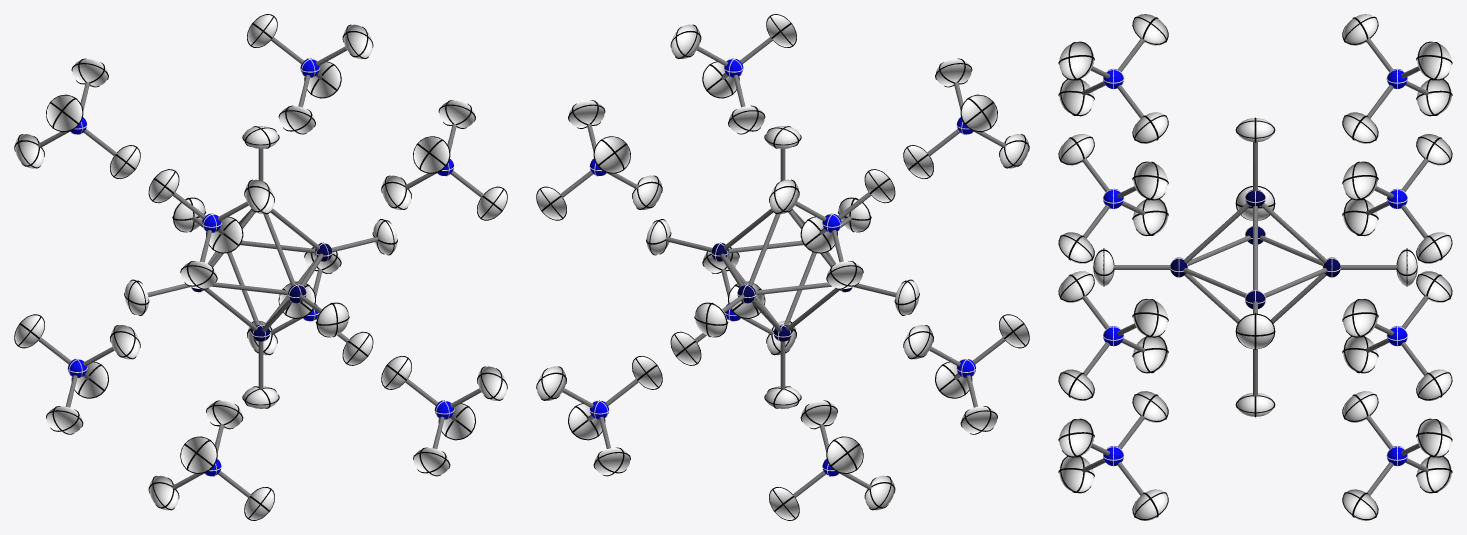
The model's file is boran.obj.
The picture shows the model from 3 angles, left to right: view 1: azimuth 30°, elevation 25°; view 2: azimuth 150°, elevation 25°; view 3: azimuth 270°, elevation 25°; orthographic projection. The views are drawn at different scales.
Parts seen in each view (by area): view 1: object 52, object 32, object 45, object 15, object 37, object 48, object 25, H1A, object 6, object 42, object 29, object 35 (+24 smaller); view 2: object 43, object 5, object 47, object 13, object 31, object 44, object 40, object 33, object 34, object 50, object 27, object 39 (+24 smaller); view 3: object 17, object 41, object 51, object 46, object 49, object 36, object 38, object 7, object 19, object 34, object 35, object 39 (+26 smaller).
Boxes of the visible parts, x1=… form: object 52: x1=46, y1=94, x2=83, y2=132; object 32: x1=180, y1=436, x2=217, y2=473; object 45: x1=413, y1=136, x2=450, y2=173; object 15: x1=315, y1=302, x2=349, y2=337; object 37: x1=438, y1=403, x2=475, y2=440; object 48: x1=304, y1=61, x2=341, y2=98; object 25: x1=206, y1=216, x2=243, y2=253; H1A: x1=71, y1=361, x2=108, y2=398; object 6: x1=46, y1=406, x2=83, y2=434; object 42: x1=180, y1=261, x2=217, y2=289; object 29: x1=278, y1=105, x2=315, y2=134; object 35: x1=413, y1=447, x2=450, y2=476; object 43: x1=960, y1=94, x2=997, y2=132; object 5: x1=826, y1=436, x2=863, y2=473; object 47: x1=593, y1=136, x2=630, y2=173; object 13: x1=694, y1=302, x2=728, y2=337; object 31: x1=800, y1=216, x2=837, y2=253; object 44: x1=702, y1=61, x2=739, y2=98; object 40: x1=568, y1=403, x2=605, y2=440; object 33: x1=935, y1=361, x2=972, y2=398; object 34: x1=960, y1=406, x2=997, y2=434; object 50: x1=826, y1=261, x2=863, y2=289; object 27: x1=728, y1=105, x2=765, y2=134; object 39: x1=593, y1=447, x2=630, y2=476; object 17: x1=1235, y1=313, x2=1275, y2=349; object 41: x1=1058, y1=41, x2=1094, y2=80; object 51: x1=1416, y1=41, x2=1452, y2=80; object 46: x1=1132, y1=161, x2=1168, y2=200; object 49: x1=1342, y1=161, x2=1378, y2=200; object 36: x1=1058, y1=418, x2=1094, y2=457; object 38: x1=1416, y1=418, x2=1452, y2=457; object 7: x1=1342, y1=298, x2=1378, y2=337; object 19: x1=1132, y1=298, x2=1168, y2=337; object 34: x1=1132, y1=336, x2=1168, y2=373; object 35: x1=1058, y1=456, x2=1094, y2=493; object 39: x1=1416, y1=456, x2=1452, y2=493.
Bounding box in the file's own units: 6.29 × 6.29 × 6.32.
